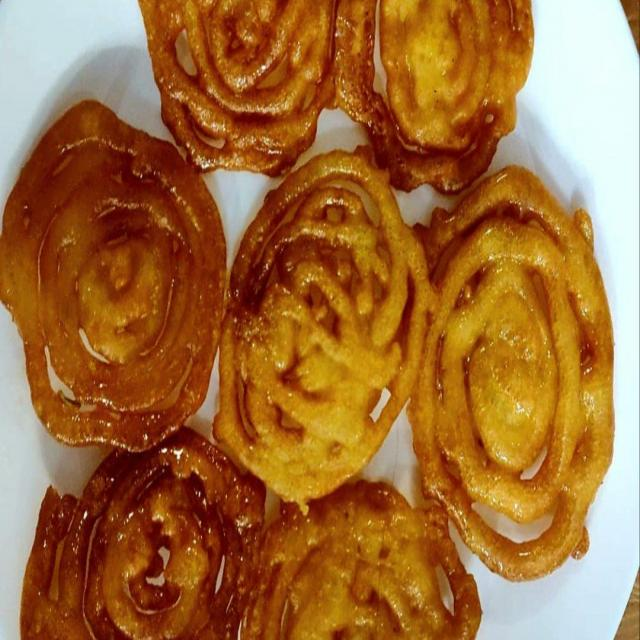jalebi: (11, 16, 621, 640)
